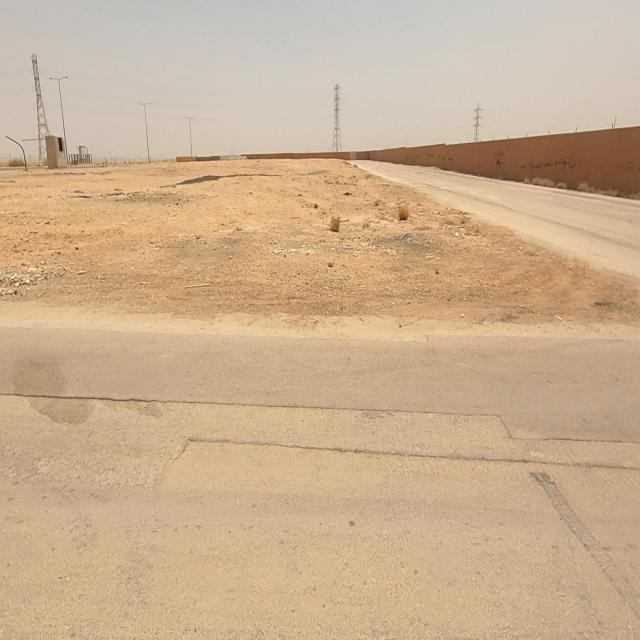debris: (300, 184, 374, 268), (374, 170, 434, 252)
